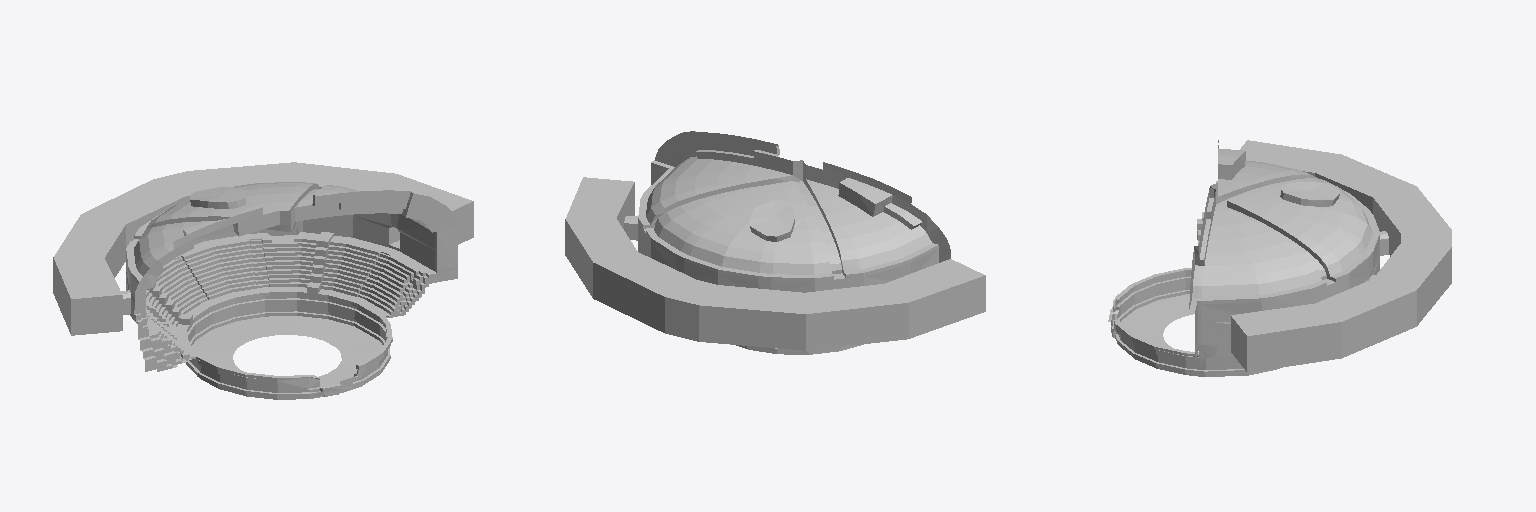
File: Arene.obj
3 renders of one model, left to right at view 1: azimuth 30°, elevation 25°; view 2: azimuth 150°, elevation 25°; view 3: azimuth 270°, elevation 25°, orthographic.
Visible parts, largest first — view 1: Arene; view 2: Arene; view 3: Arene.
Part boxes in pixels (x1,y1,x2,y2): Arene: (53,162,473,399); Arene: (565,131,985,354); Arene: (1108,140,1451,376).
Bounding box in the file's own units: 475 × 179 × 351.